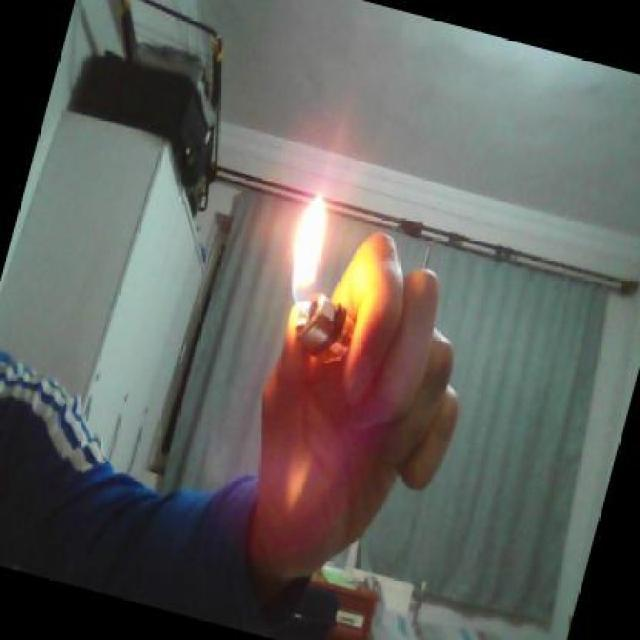Fire: (291, 166, 324, 338)
